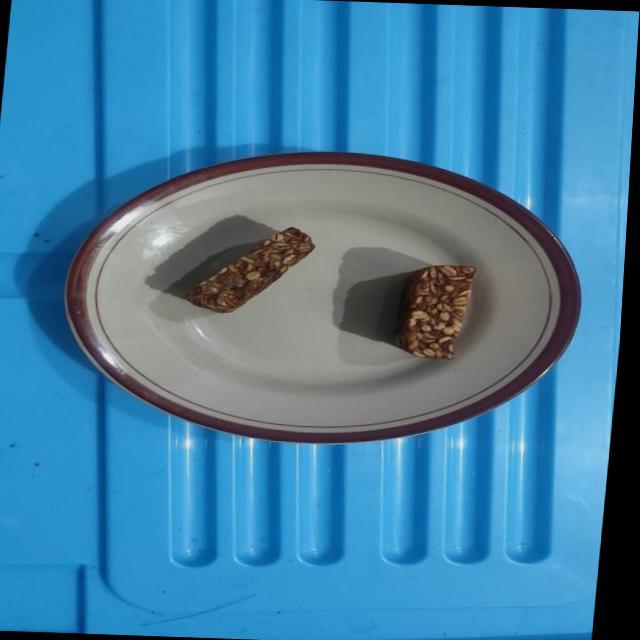tempe_goreng: (185, 228, 314, 312), (394, 264, 476, 358)
